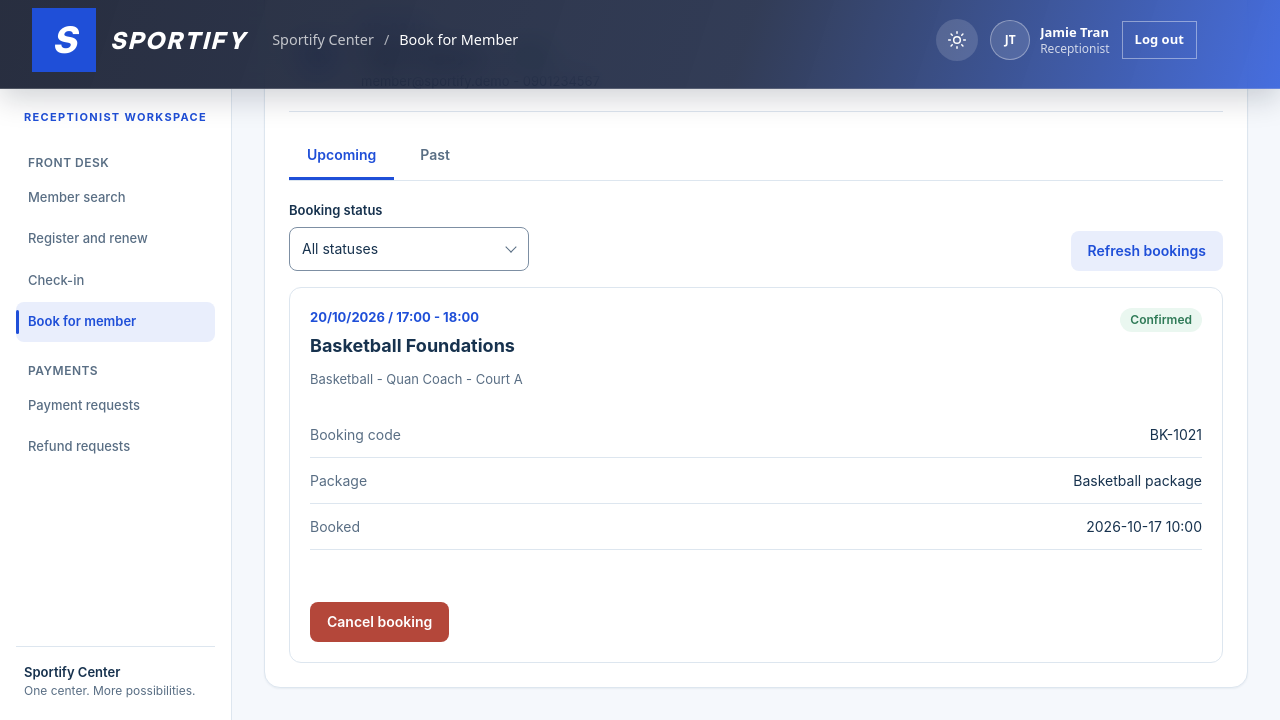
Scenario: FE-10 receptionist booking screens › reconciles a cancellation whose response was lost after the server committed it
(page scrolled)
Click the button "Cancel booking" at coordinates (380, 622), box [310,602,449,642]
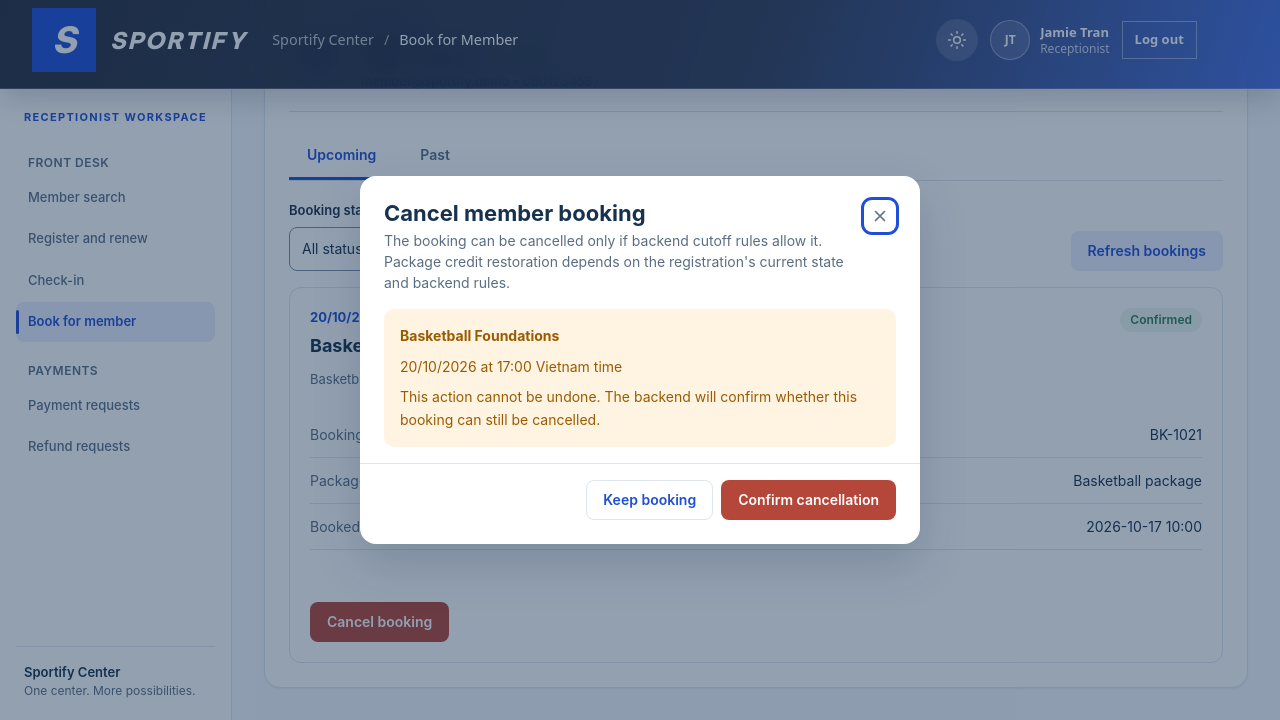
Click the button "Confirm cancellation" at coordinates (809, 500), box [721,480,896,520]
(page scrolled)
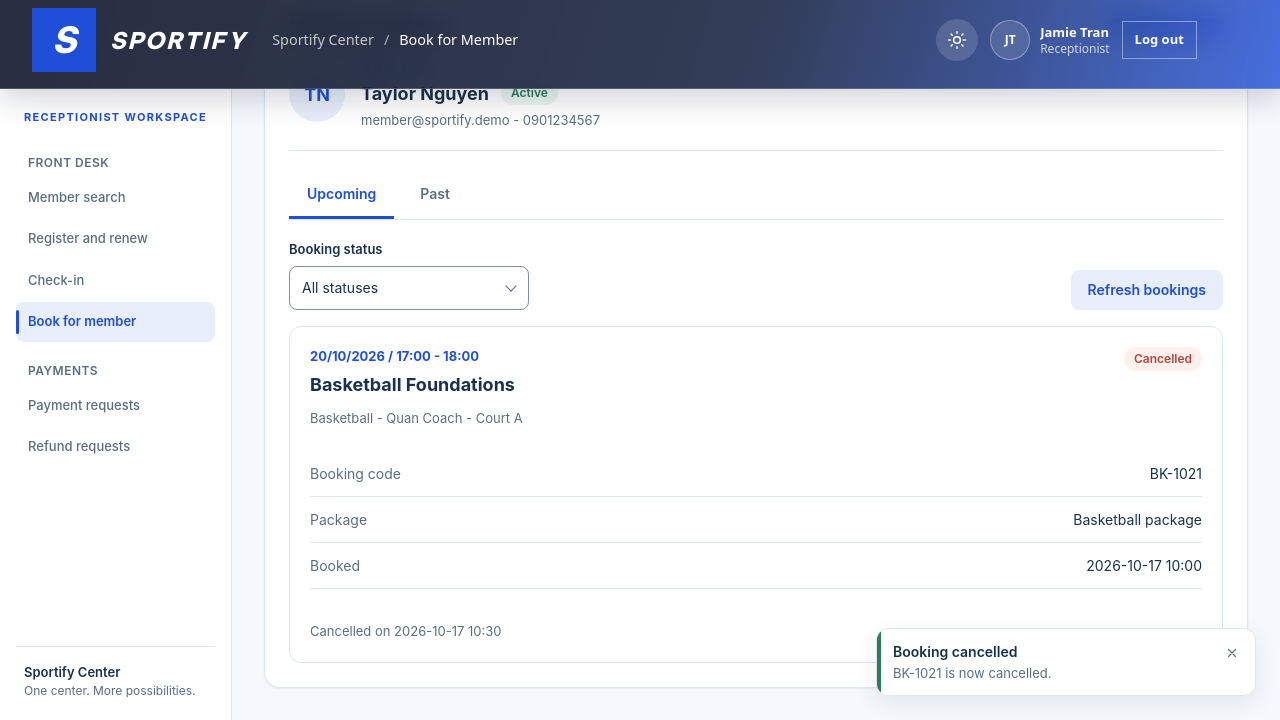
Expected: the text "BK-1021 is now cancelled." is shown, [893,664,1052,680]
